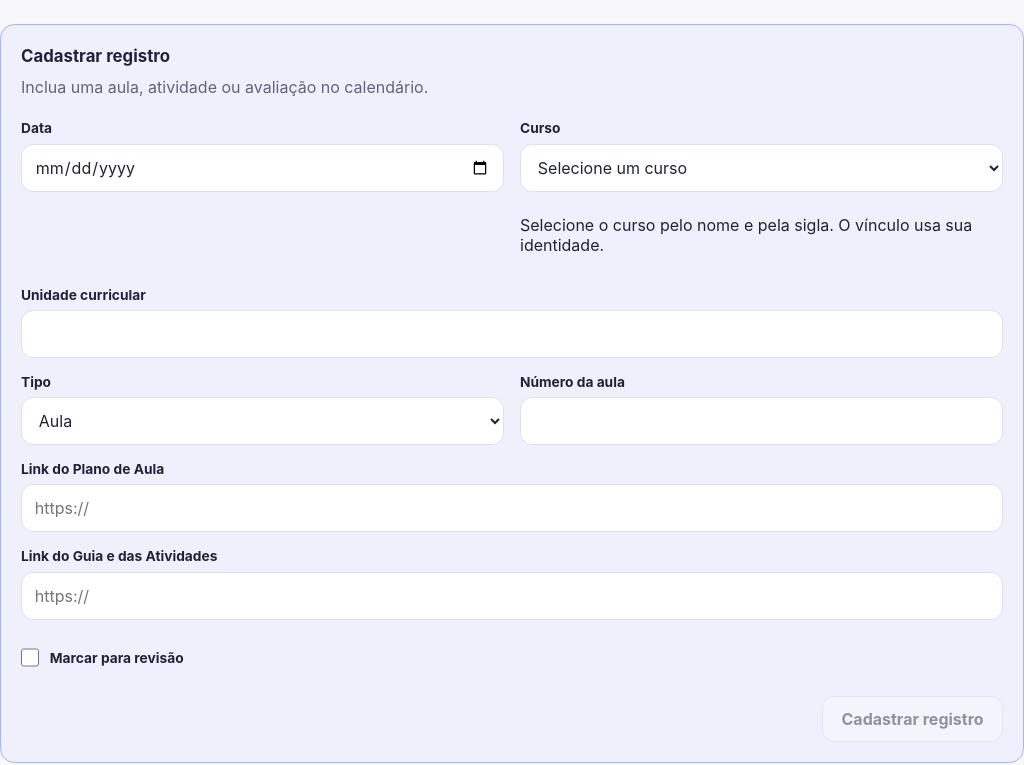
Test: gravação de aulas com curso personalizado › envio pelo teclado entrega os oito campos normalizados e confirma somente os públicos
Step 1. Type "2026-10-25" into the date field labelled "Data" → (262, 168), box [21, 144, 504, 192]
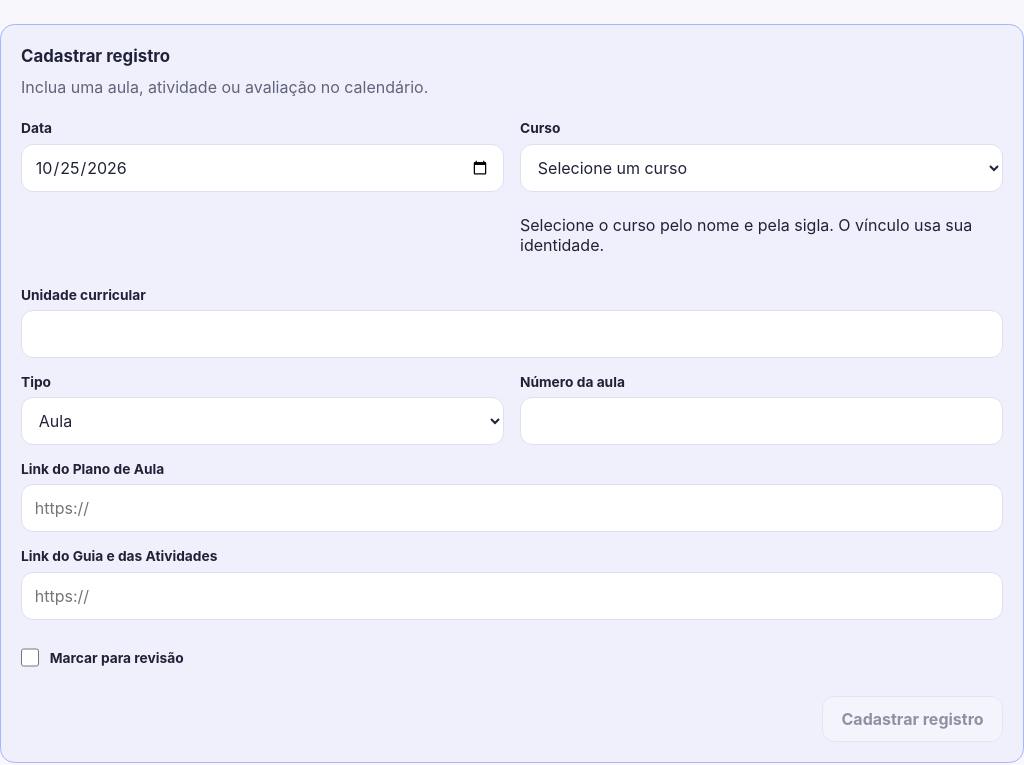
Step 2. Select "CD — Ciência de Dados" in the dropdown labelled "Curso" → (762, 168), box [520, 144, 1003, 192]
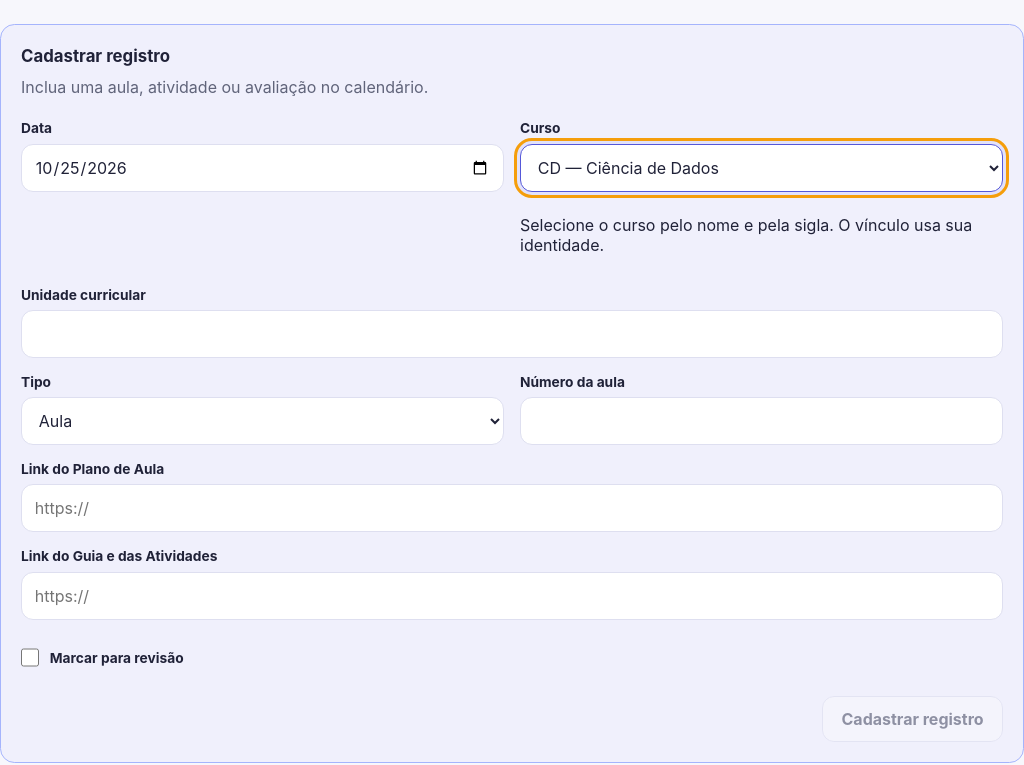
Step 3. Type "Qualidade de Software" into the field labelled "Unidade curricular" → (512, 334), box [21, 310, 1003, 358]
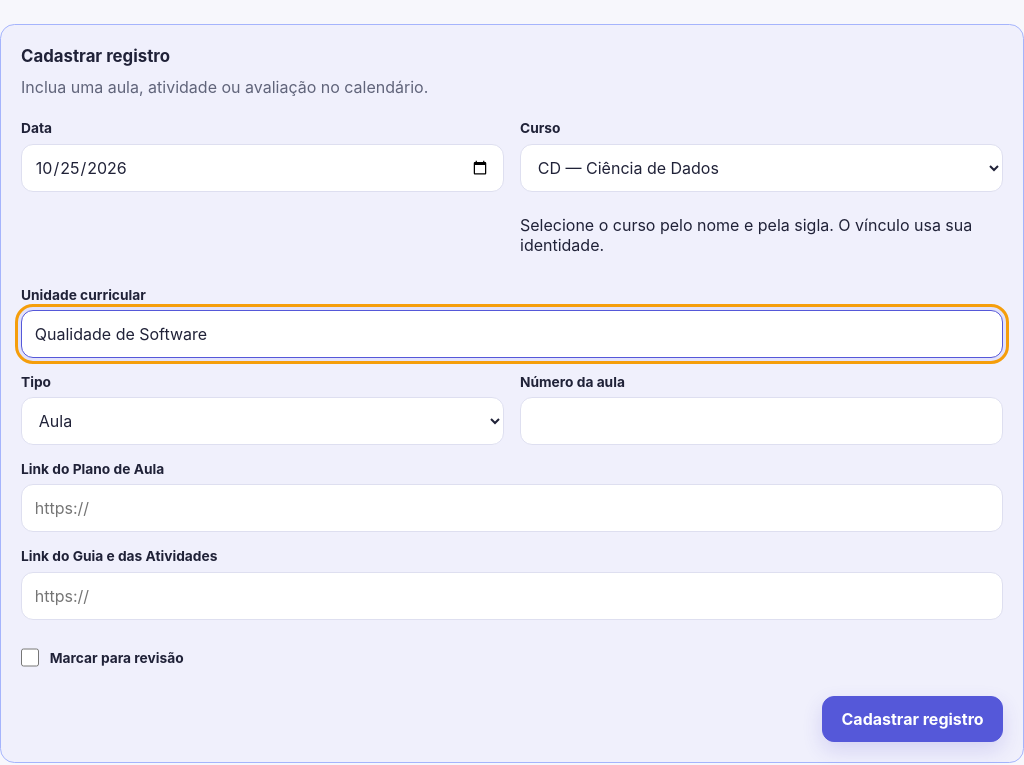
Step 4. Press Enter
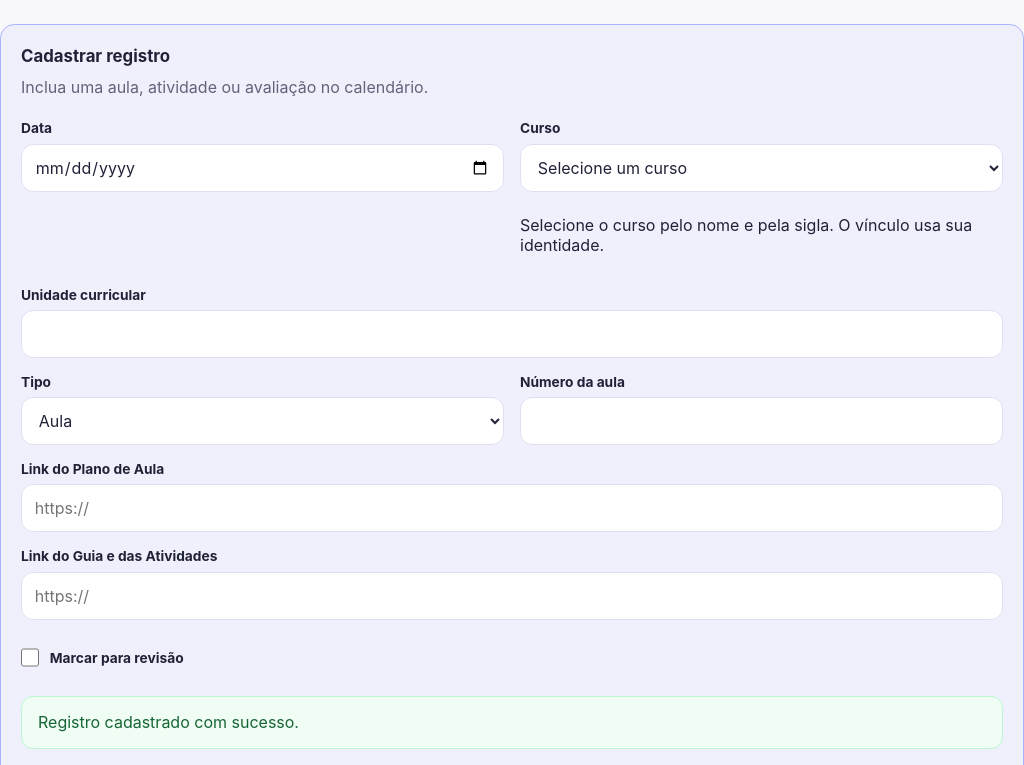
Result: the field labelled "Unidade curricular" is empty at [21, 310, 1003, 358]
Result: the text "Registro cadastrado com sucesso." is shown at [21, 696, 1003, 749]
